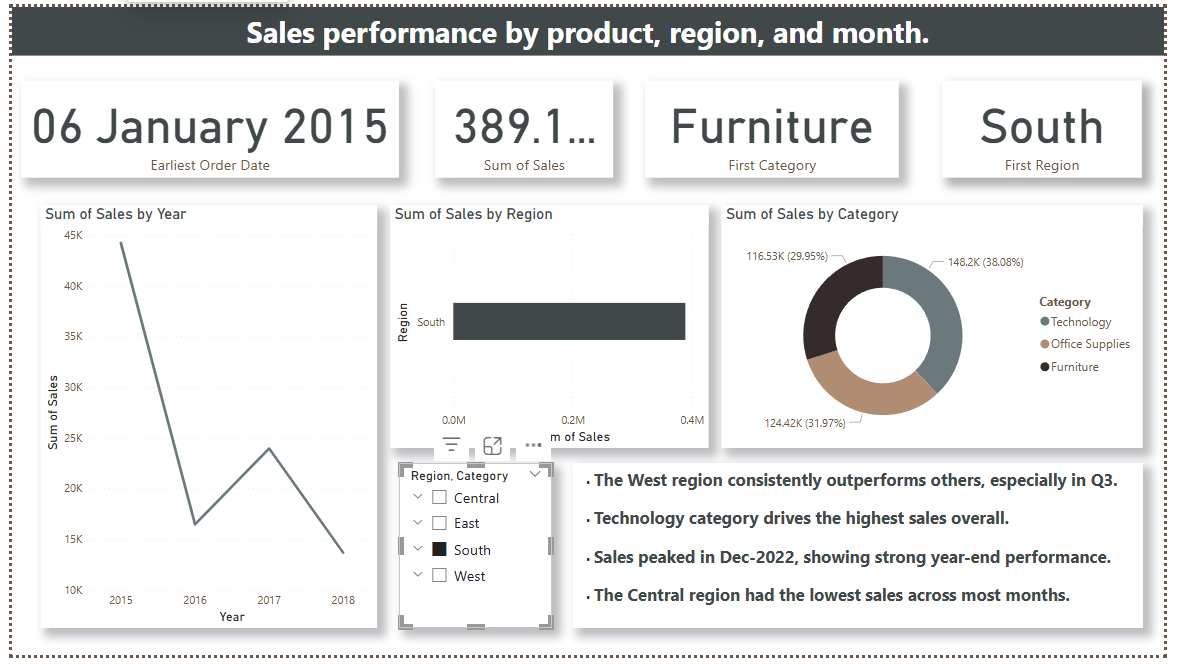

Layout of this report page (visuals, bound fields, positions):
{"tool":"powerbi","page":{"name":"Page 1","canvas":[1280,720],"ordinal":0},"visuals":[{"type":"lineChart","fields":{"Category":["train.Order Date.Variation.Date Hierarchy.Year","train.Order Date.Variation.Date Hierarchy.Quarter","train.Order Date.Variation.Date Hierarchy.Month","train.Order Date.Variation.Date Hierarchy.Day"],"Y":["Sum(train.Sales)"]},"box":[32,220,374,470],"z":0},{"type":"textbox","box":[0,0,1280,54],"z":1000},{"type":"card","fields":{"Values":["Sum(train.Sales)"]},"box":[470,82,198,108],"z":2000},{"type":"card","fields":{"Values":["Min(train.Order Date)"]},"box":[10,82,420,108],"z":3000},{"type":"card","fields":{"Values":["Min(train.Category)"]},"box":[704,82,282,108],"z":4000},{"type":"card","fields":{"Values":["Min(train.Region)"]},"box":[1034,82,222,108],"z":5000},{"type":"barChart","fields":{"Category":["train.Region"],"Y":["Sum(train.Sales)"]},"box":[420,220,354,270],"z":5001},{"type":"donutChart","fields":{"Category":["train.Category"],"Y":["Sum(train.Sales)"]},"box":[788,220,468,270],"z":5002},{"type":"slicer","fields":{"Values":["train.Region","train.Category"]},"box":[430,506.7,170,183.3],"z":5003},{"type":"textbox","box":[623.3,506.7,633.3,183.3],"z":5005}]}

Visuals, with their boxes in screenshot pixels (x1, y1, x2, y2), scaled from the page's 1280x720 canvas onto the 1177x664 screenshot:
lineChart - train.Order Date.Variation.Date Hierarchy.Year x train.Order Date.Variation.Date Hierarchy.Quarter: <region>29, 203, 373, 636</region>
textbox: <region>0, 0, 1176, 50</region>
card - Sum(train.Sales): <region>432, 76, 614, 175</region>
card - Min(train.Order Date): <region>9, 76, 395, 175</region>
card - Min(train.Category): <region>647, 76, 907, 175</region>
card - Min(train.Region): <region>951, 76, 1155, 175</region>
barChart - train.Region x Sum(train.Sales): <region>386, 203, 712, 452</region>
donutChart - train.Category x Sum(train.Sales): <region>725, 203, 1155, 452</region>
slicer - train.Region x train.Category: <region>395, 467, 552, 636</region>
textbox: <region>573, 467, 1155, 636</region>
